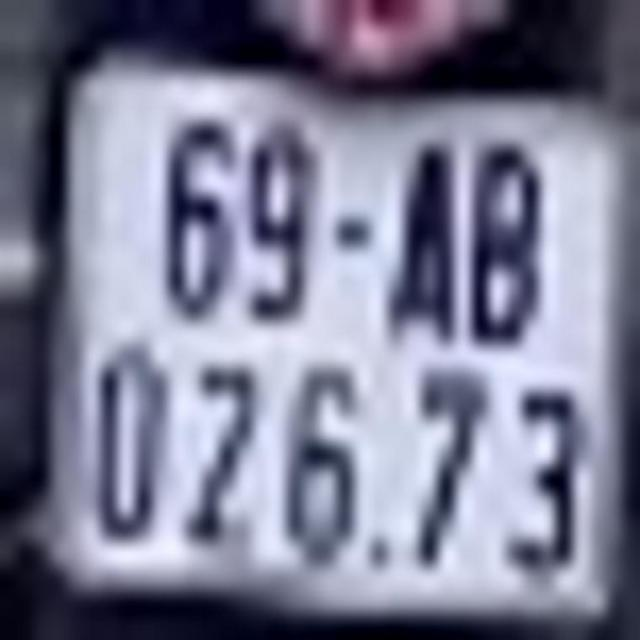0: (92, 340, 160, 540)
2: (180, 352, 259, 552)
3: (504, 376, 586, 578)
6: (279, 354, 353, 568), (156, 121, 232, 313)
7: (402, 364, 490, 572)
9: (245, 114, 315, 320)
A: (389, 138, 456, 345)
B: (467, 129, 537, 346)
